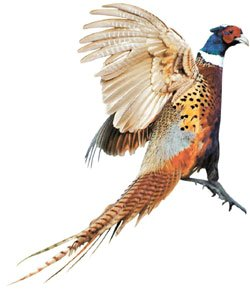pheasant: (84, 4, 240, 266)
